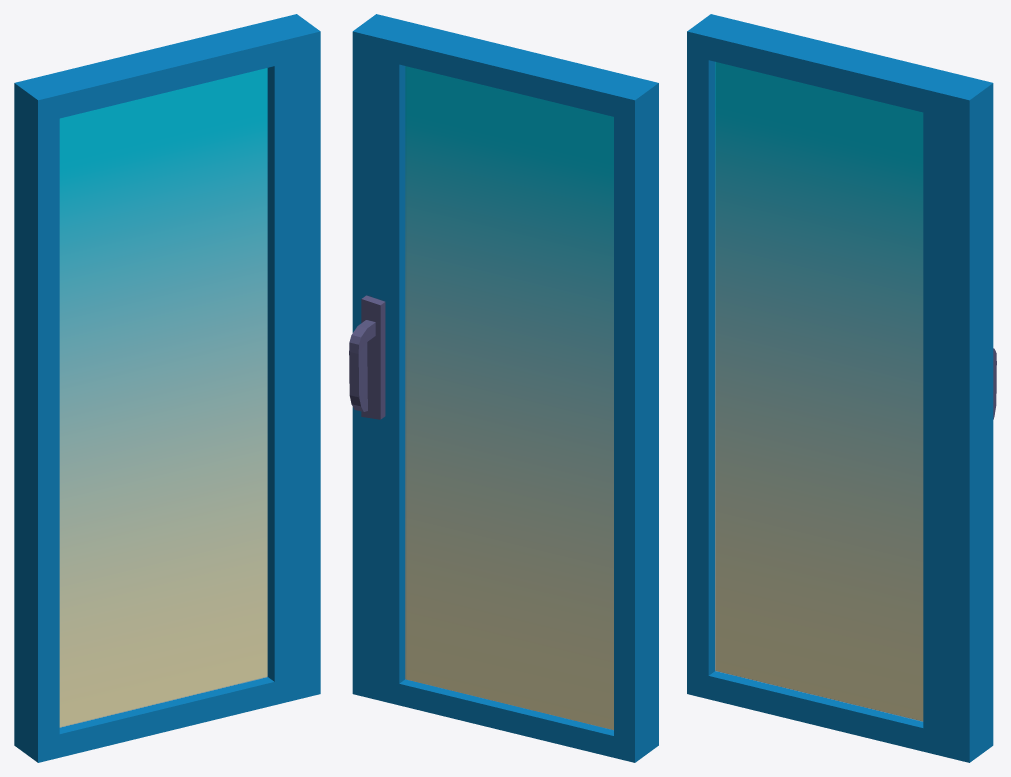
Rendered from Door_Model.fbx.
3 renders of one model, left to right at view 1: azimuth 30°, elevation 25°; view 2: azimuth 150°, elevation 25°; view 3: azimuth 330°, elevation 25°, orthographic.
Parts seen in each view (by area): view 1: Cube; view 2: Cube; view 3: Cube.
Part boxes in pixels (x1=…): Cube: x1=14, y1=14, x2=320, y2=762; Cube: x1=349, y1=14, x2=658, y2=762; Cube: x1=687, y1=14, x2=996, y2=762.
Size of the model in its own units: 2.01 by 4.52 by 0.5663.
Materials: 1 (1 with a texture image).
